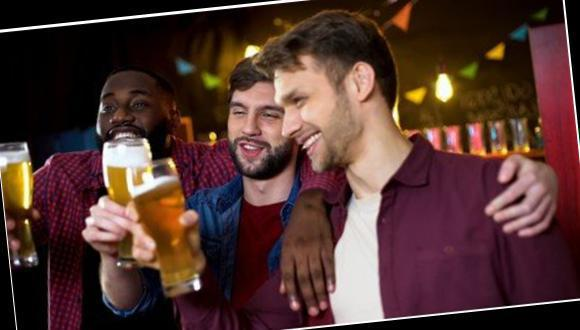Drunk: (272, 66, 356, 172), (227, 82, 285, 177), (97, 74, 166, 151)
